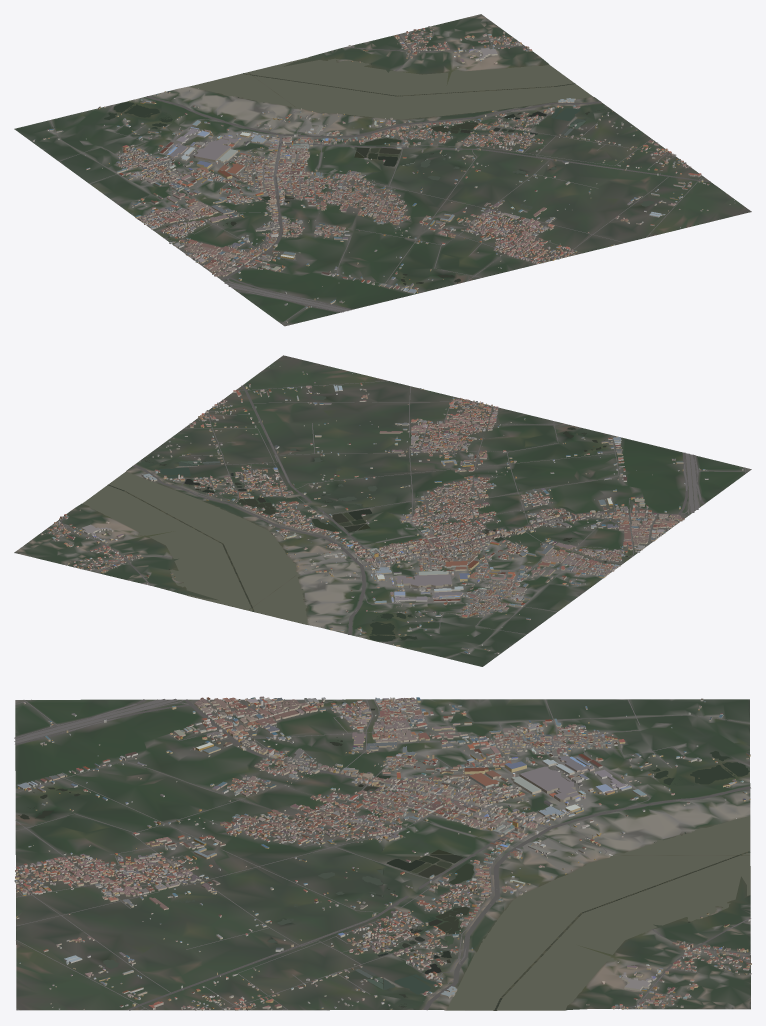
The picture shows the model from 3 angles, top to bottom: view 1: azimuth 30°, elevation 25°; view 2: azimuth 150°, elevation 25°; view 3: azimuth 270°, elevation 25°; orthographic projection. The views are drawn at different scales.
Parts seen in each view (by area): view 1: ground, buildings, water, roads; view 2: ground, buildings, water, roads; view 3: ground, buildings, water, roads.
Boxes of the visible parts, box(x1,y1,x2,y2) form: ground: box(14, 14, 751, 326); buildings: box(32, 26, 734, 322); water: box(104, 57, 654, 285); roads: box(50, 31, 750, 324); ground: box(14, 355, 751, 666); buildings: box(40, 365, 743, 653); water: box(83, 395, 630, 641); roads: box(52, 355, 748, 658); ground: box(15, 699, 750, 1010); buildings: box(14, 696, 751, 1010); water: box(18, 702, 750, 1010); roads: box(14, 698, 750, 1010).
Size of the model in its own units: 2820 by 30.29 by 2816.
